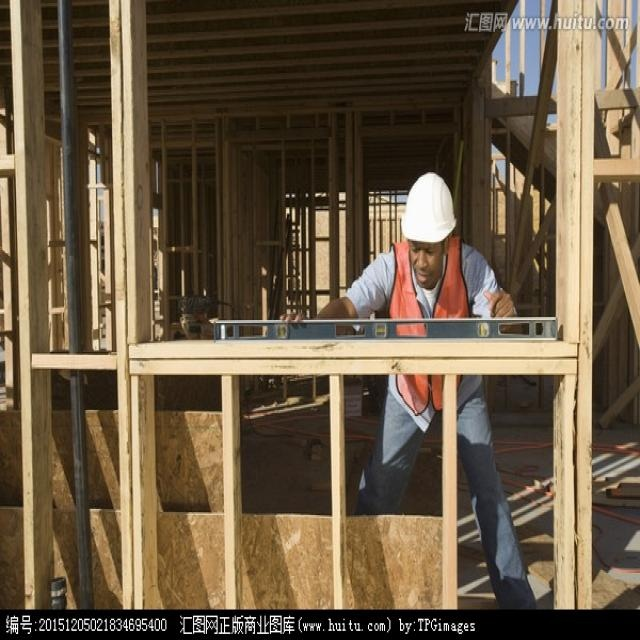Con_Casco: (404, 171, 456, 281)
